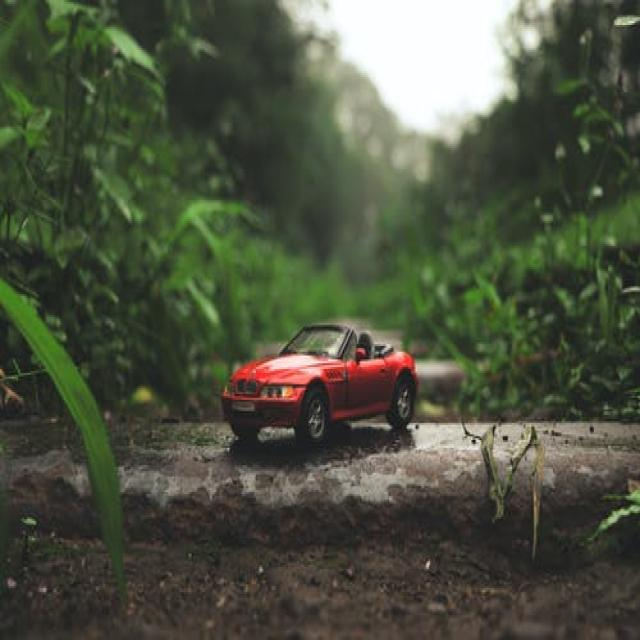Car: (220, 321, 419, 446)
